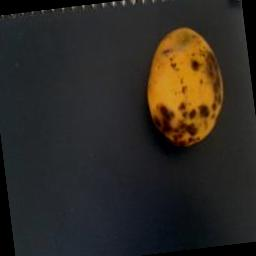Mango Rotten: (127, 5, 236, 161)
